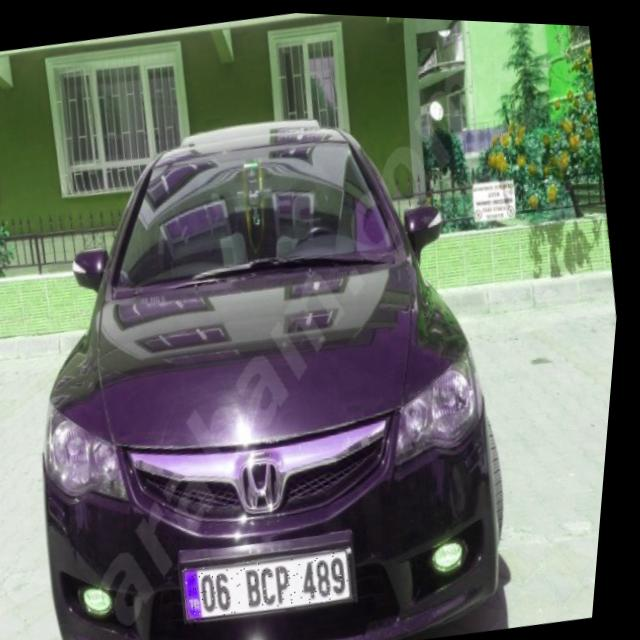license_plate: (189, 538, 368, 623)
